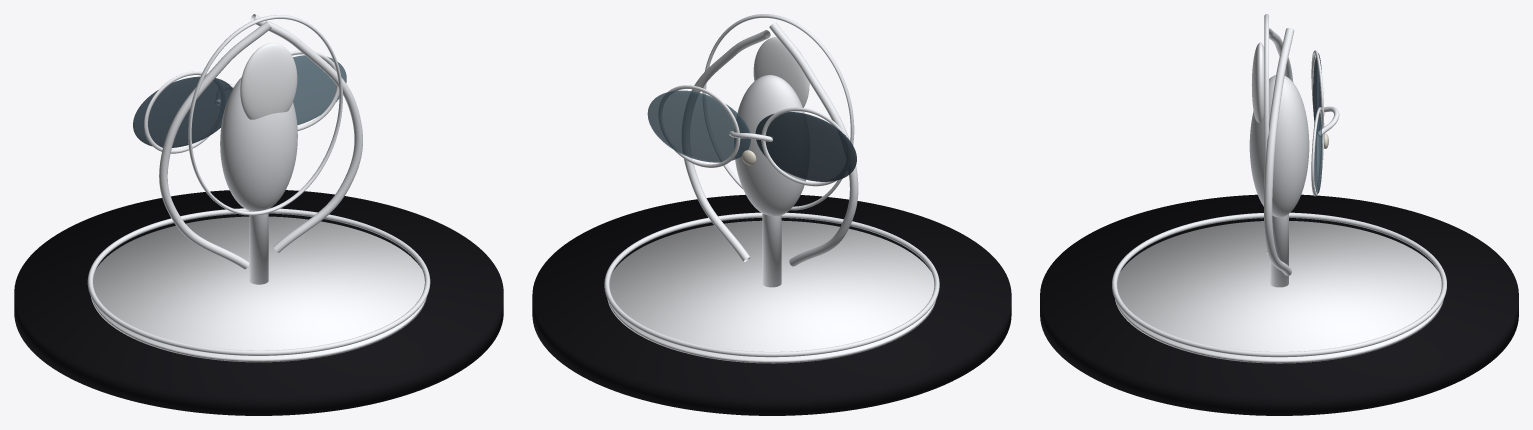
Rendered from 3D_Codex_Prompt 02_Blender.glb.
3 views of the same model, side by side, from view 1: azimuth 30°, elevation 25°; view 2: azimuth 150°, elevation 25°; view 3: azimuth 270°, elevation 25° (orthographic). The views are drawn at different scales.
Parts seen in each view (by area): view 1: Minimal Gloss Black Plinth, Thin Mirror Display Plate, Controlled Biomorphic Chrome Body, Clean Chrome Base Ring, Left Clean Smoky Lens, Small Mirror Capsule, Single Sculptural Chrome Ribbon Left.002, Single Sculptural Chrome Ribbon Left.001, Clean Vertical Chrome Halo, Right Clean Blue Lens, Slim Chrome Vertical Support, Left Thin Chrome Lens Rim; view 2: Minimal Gloss Black Plinth, Thin Mirror Display Plate, Right Clean Blue Lens, Controlled Biomorphic Chrome Body, Left Clean Smoky Lens, Clean Chrome Base Ring, Single Sculptural Chrome Ribbon Left.001, Single Sculptural Chrome Ribbon Left.002, Small Mirror Capsule, Clean Vertical Chrome Halo, Slim Chrome Vertical Support, Right Thin Chrome Lens Rim (+1 smaller); view 3: Minimal Gloss Black Plinth, Thin Mirror Display Plate, Controlled Biomorphic Chrome Body, Clean Chrome Base Ring, Single Sculptural Chrome Ribbon Left.001, Slim Chrome Vertical Support, Small Mirror Capsule, Clean Vertical Chrome Halo, Right Clean Blue Lens, Right Thin Chrome Lens Rim.
Part boxes in pixels (box(x1,y1,x2,y2)): Minimal Gloss Black Plinth: box(14, 190, 503, 415); Thin Mirror Display Plate: box(91, 216, 426, 362); Controlled Biomorphic Chrome Body: box(220, 77, 297, 211); Clean Chrome Base Ring: box(87, 208, 430, 355); Left Clean Smoky Lens: box(133, 76, 232, 147); Small Mirror Capsule: box(240, 43, 297, 119); Single Sculptural Chrome Ribbon Left.002: box(159, 21, 271, 269); Single Sculptural Chrome Ribbon Left.001: box(250, 14, 362, 252); Clean Vertical Chrome Halo: box(188, 15, 342, 215); Right Clean Blue Lens: box(293, 55, 346, 125); Slim Chrome Vertical Support: box(249, 211, 268, 284); Left Thin Chrome Lens Rim: box(144, 71, 209, 153); Minimal Gloss Black Plinth: box(532, 194, 1011, 415); Thin Mirror Display Plate: box(607, 220, 936, 363); Right Clean Blue Lens: box(647, 90, 750, 162); Controlled Biomorphic Chrome Body: box(734, 75, 805, 216); Left Clean Smoky Lens: box(755, 112, 856, 181); Clean Chrome Base Ring: box(604, 212, 939, 357); Single Sculptural Chrome Ribbon Left.001: box(682, 30, 770, 261); Single Sculptural Chrome Ribbon Left.002: box(769, 22, 858, 266); Small Mirror Capsule: box(753, 37, 809, 107); Clean Vertical Chrome Halo: box(702, 14, 854, 210); Slim Chrome Vertical Support: box(762, 213, 781, 287); Right Thin Chrome Lens Rim: box(659, 85, 740, 167); Minimal Gloss Black Plinth: box(1040, 194, 1518, 415); Thin Mirror Display Plate: box(1115, 221, 1443, 363); Controlled Biomorphic Chrome Body: box(1249, 75, 1309, 217); Clean Chrome Base Ring: box(1112, 212, 1446, 357); Single Sculptural Chrome Ribbon Left.001: box(1264, 28, 1294, 275); Slim Chrome Vertical Support: box(1270, 214, 1288, 287); Small Mirror Capsule: box(1251, 42, 1264, 122); Clean Vertical Chrome Halo: box(1264, 14, 1268, 186); Right Clean Blue Lens: box(1314, 110, 1322, 193); Right Thin Chrome Lens Rim: box(1311, 107, 1324, 196).
Size of what is drawn, in the model's own units: 4.5 by 3.05 by 4.5.
